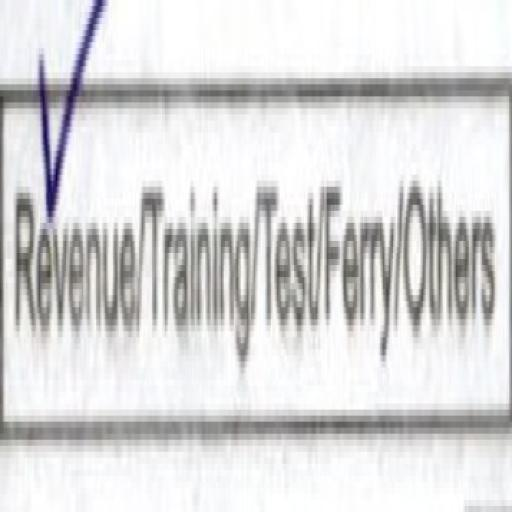check: (0, 0, 141, 422)
